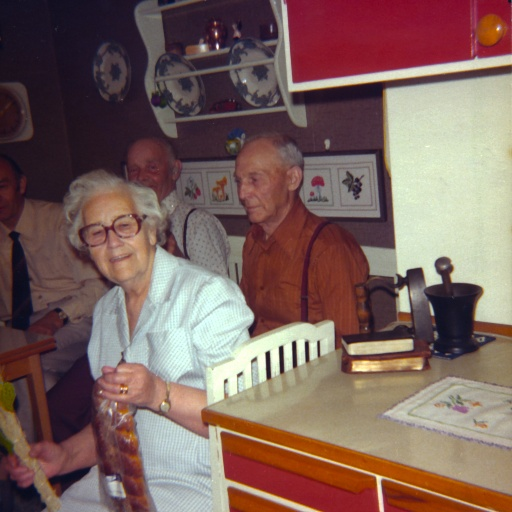hand: (92, 358, 159, 410), (0, 439, 68, 490), (23, 317, 62, 338), (160, 227, 184, 256)
